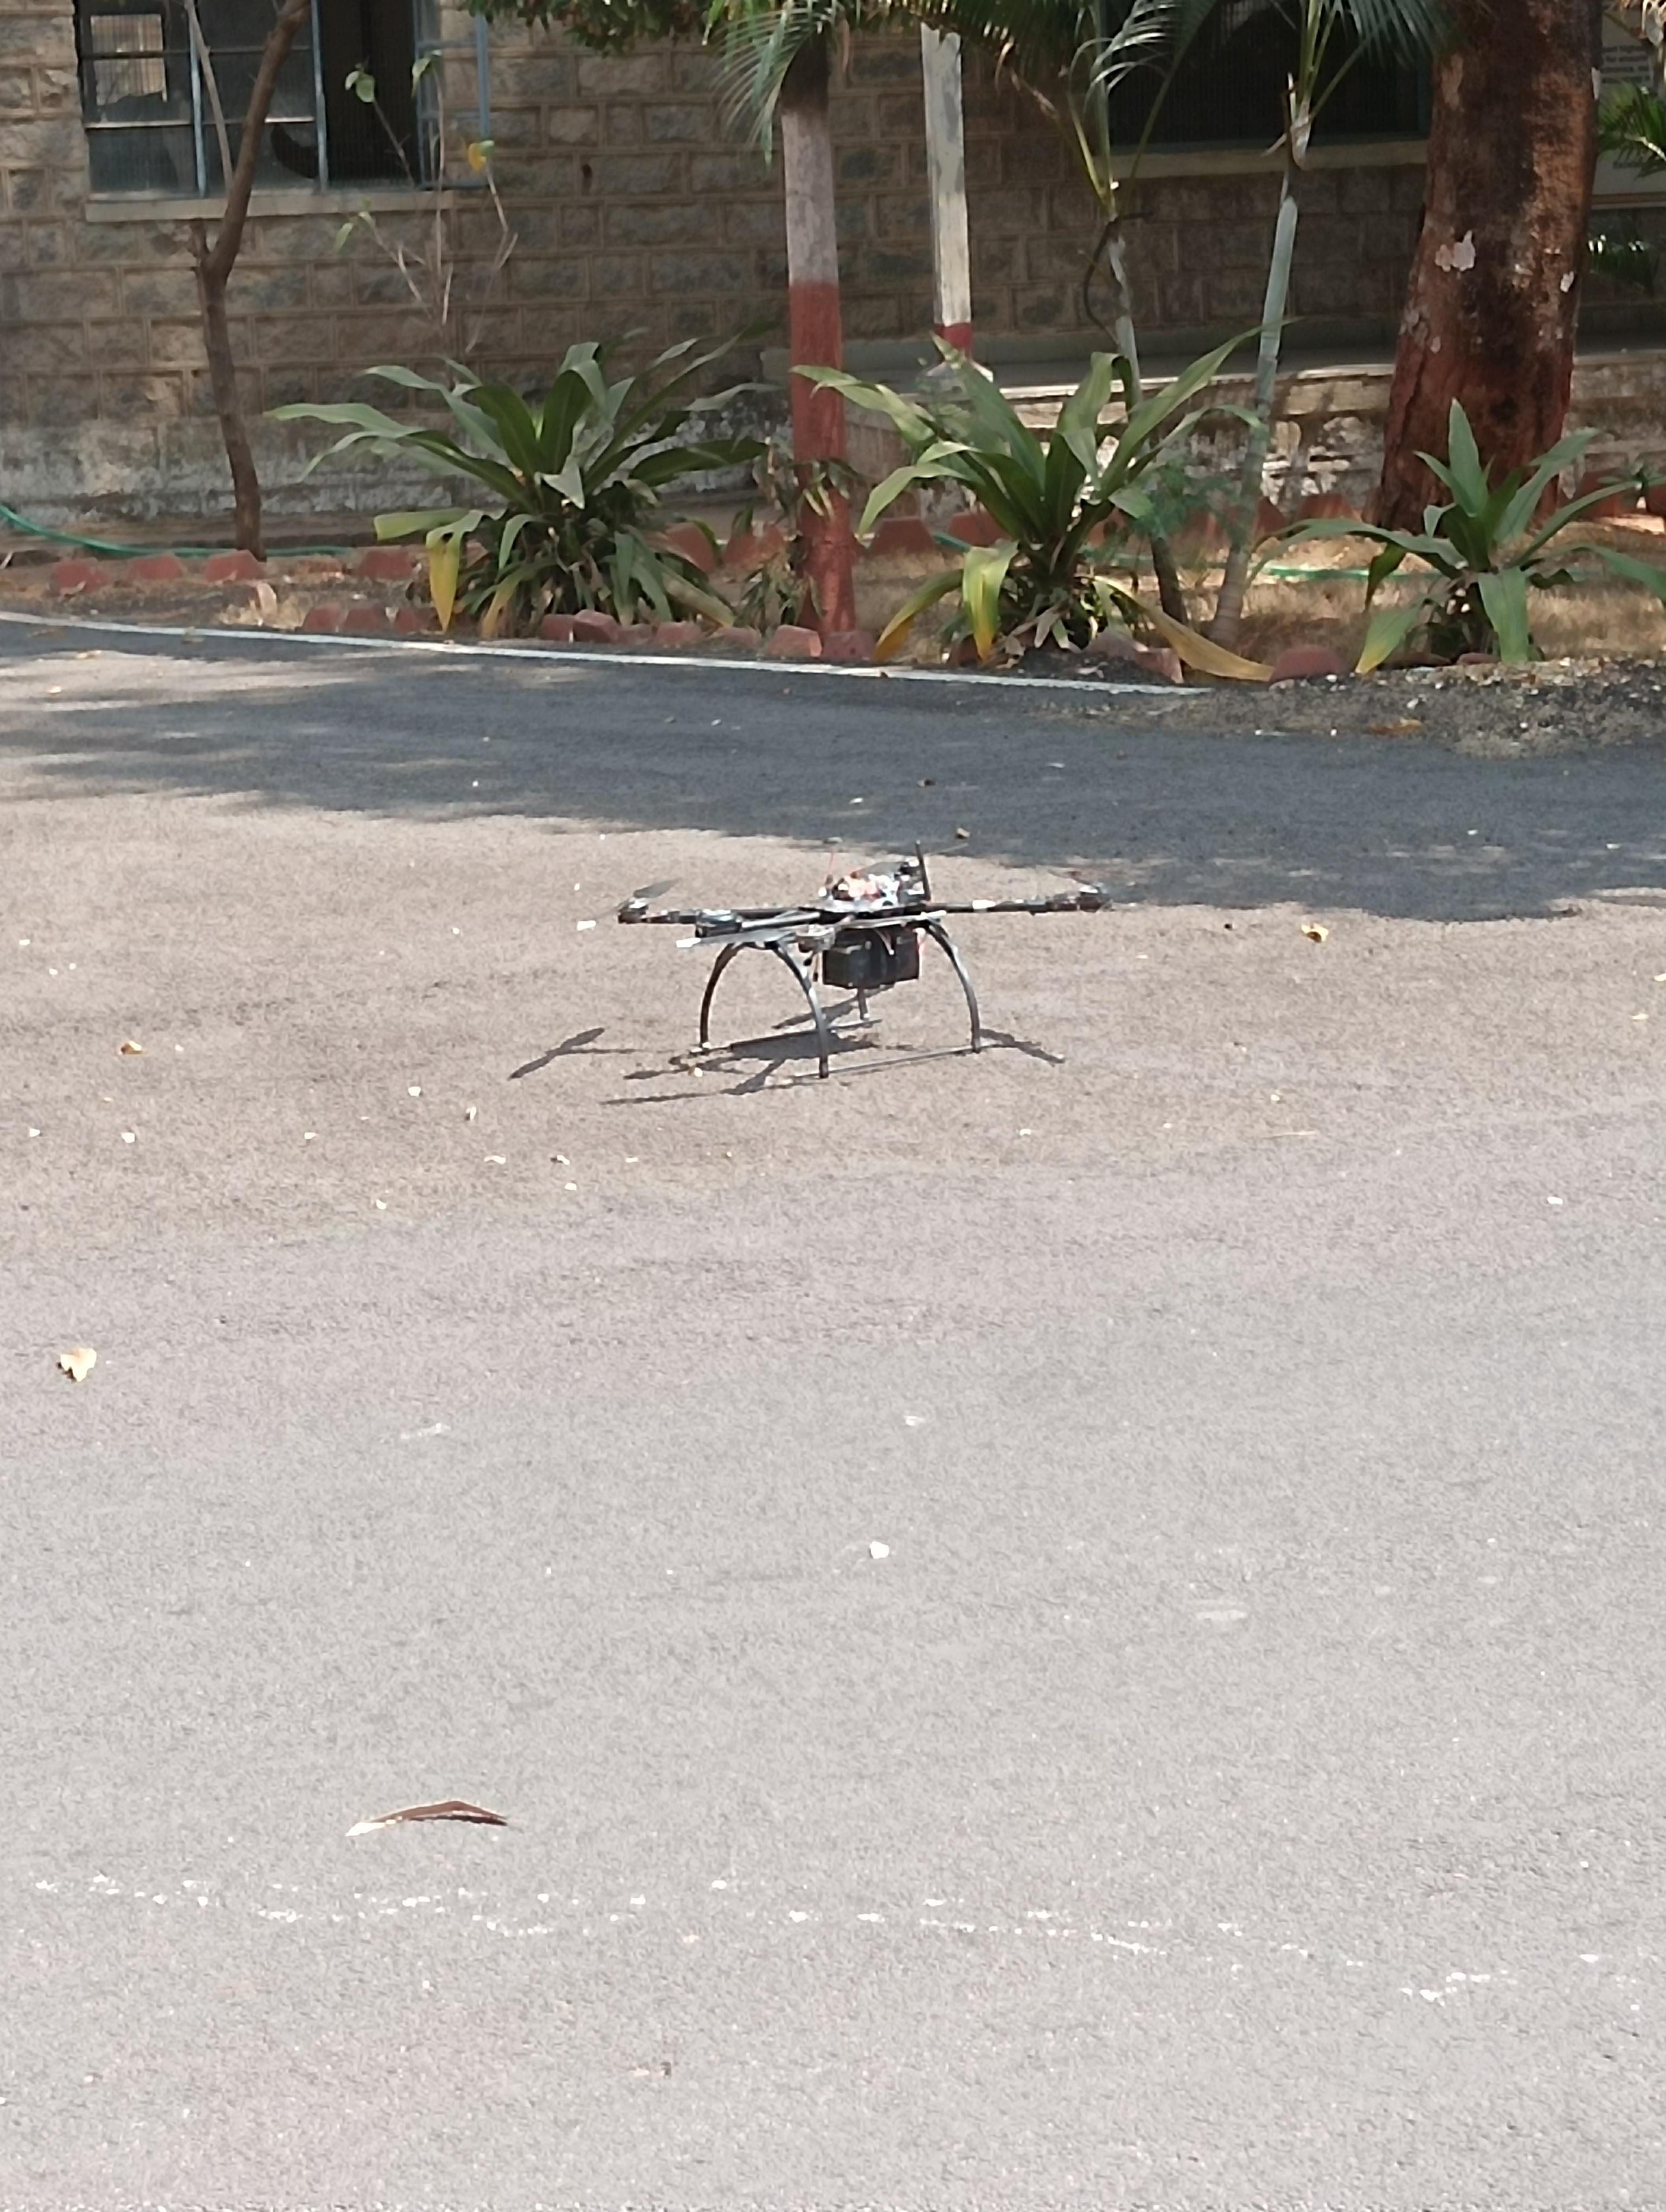drone: (560, 803, 1193, 1109)
